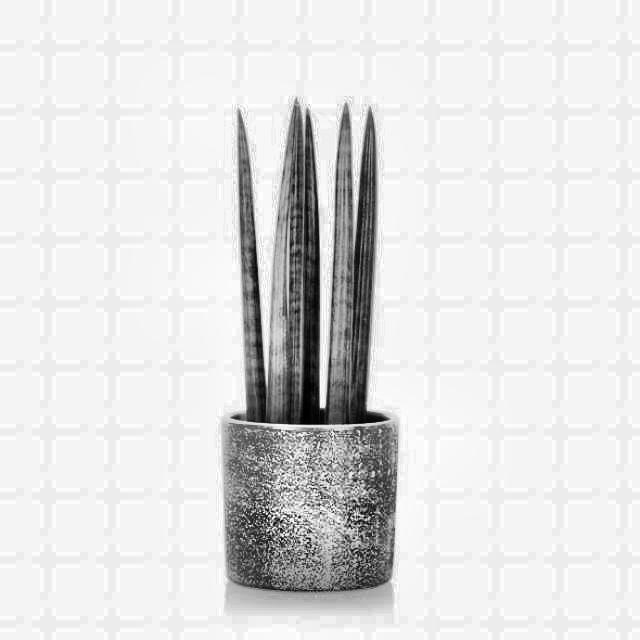plants: (187, 78, 428, 417)
